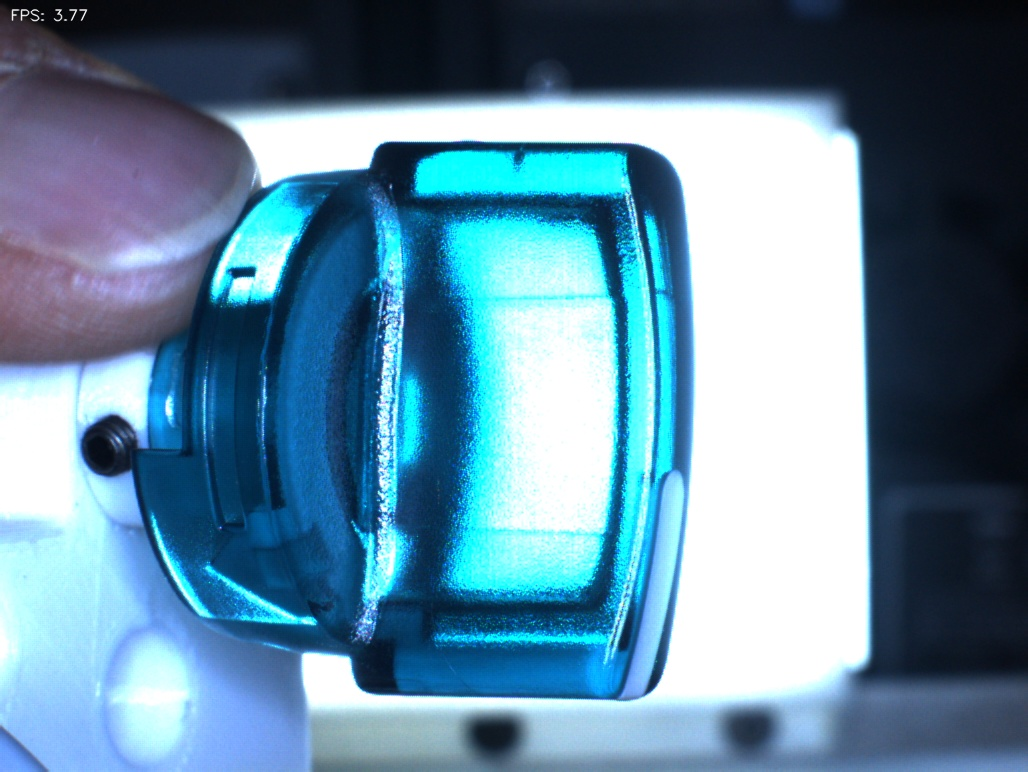Bulle: (475, 103, 559, 196)
